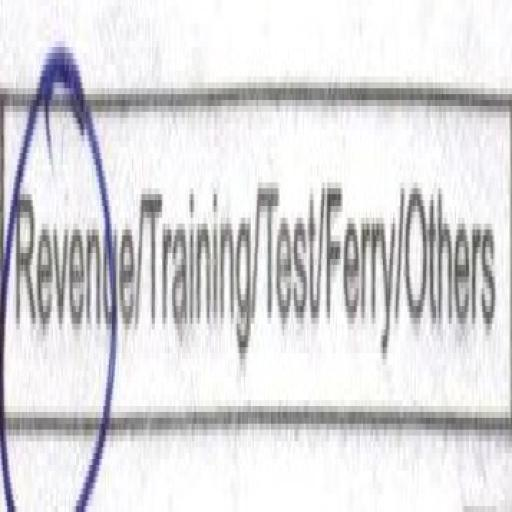check: (0, 12, 136, 512)
